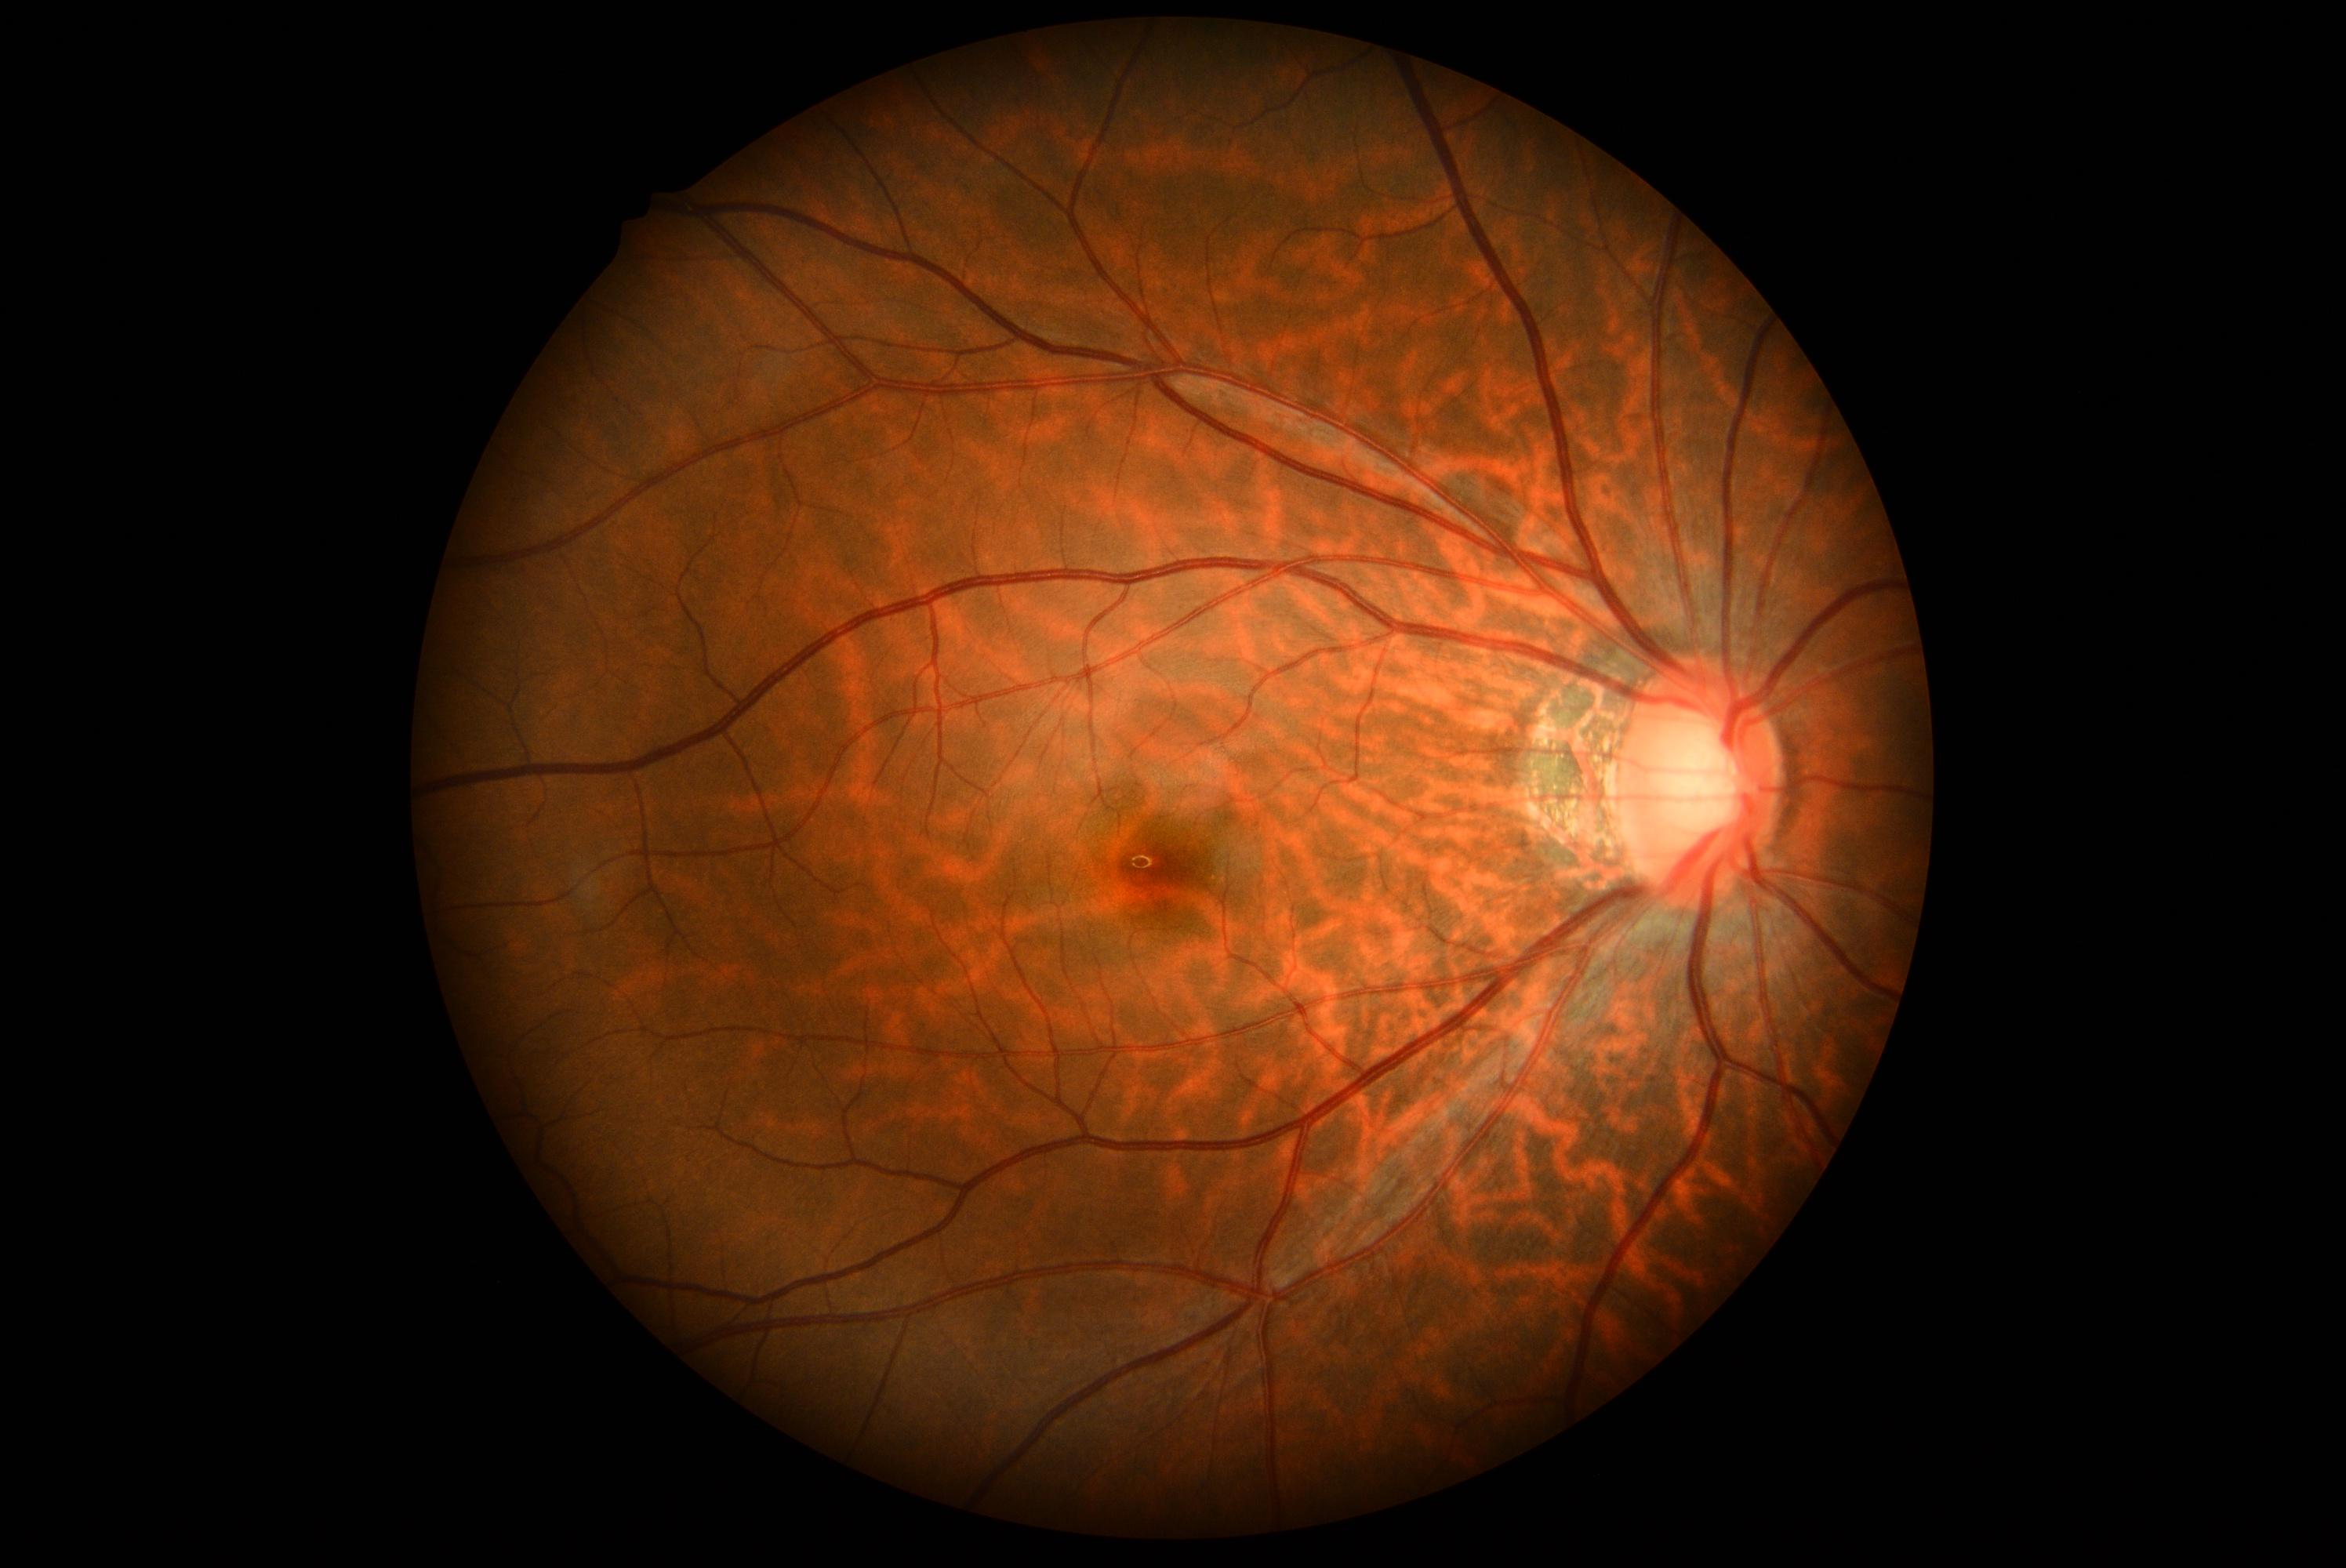Fovea: (1069, 789, 1230, 947)
